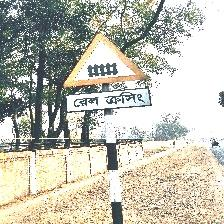Rail-crossing: (62, 33, 152, 119)
